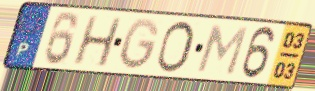6: (42, 10, 80, 67), (240, 25, 276, 81)
G: (118, 16, 161, 72)
H: (70, 15, 124, 69)
M: (194, 23, 251, 78)
O: (153, 19, 197, 75)
